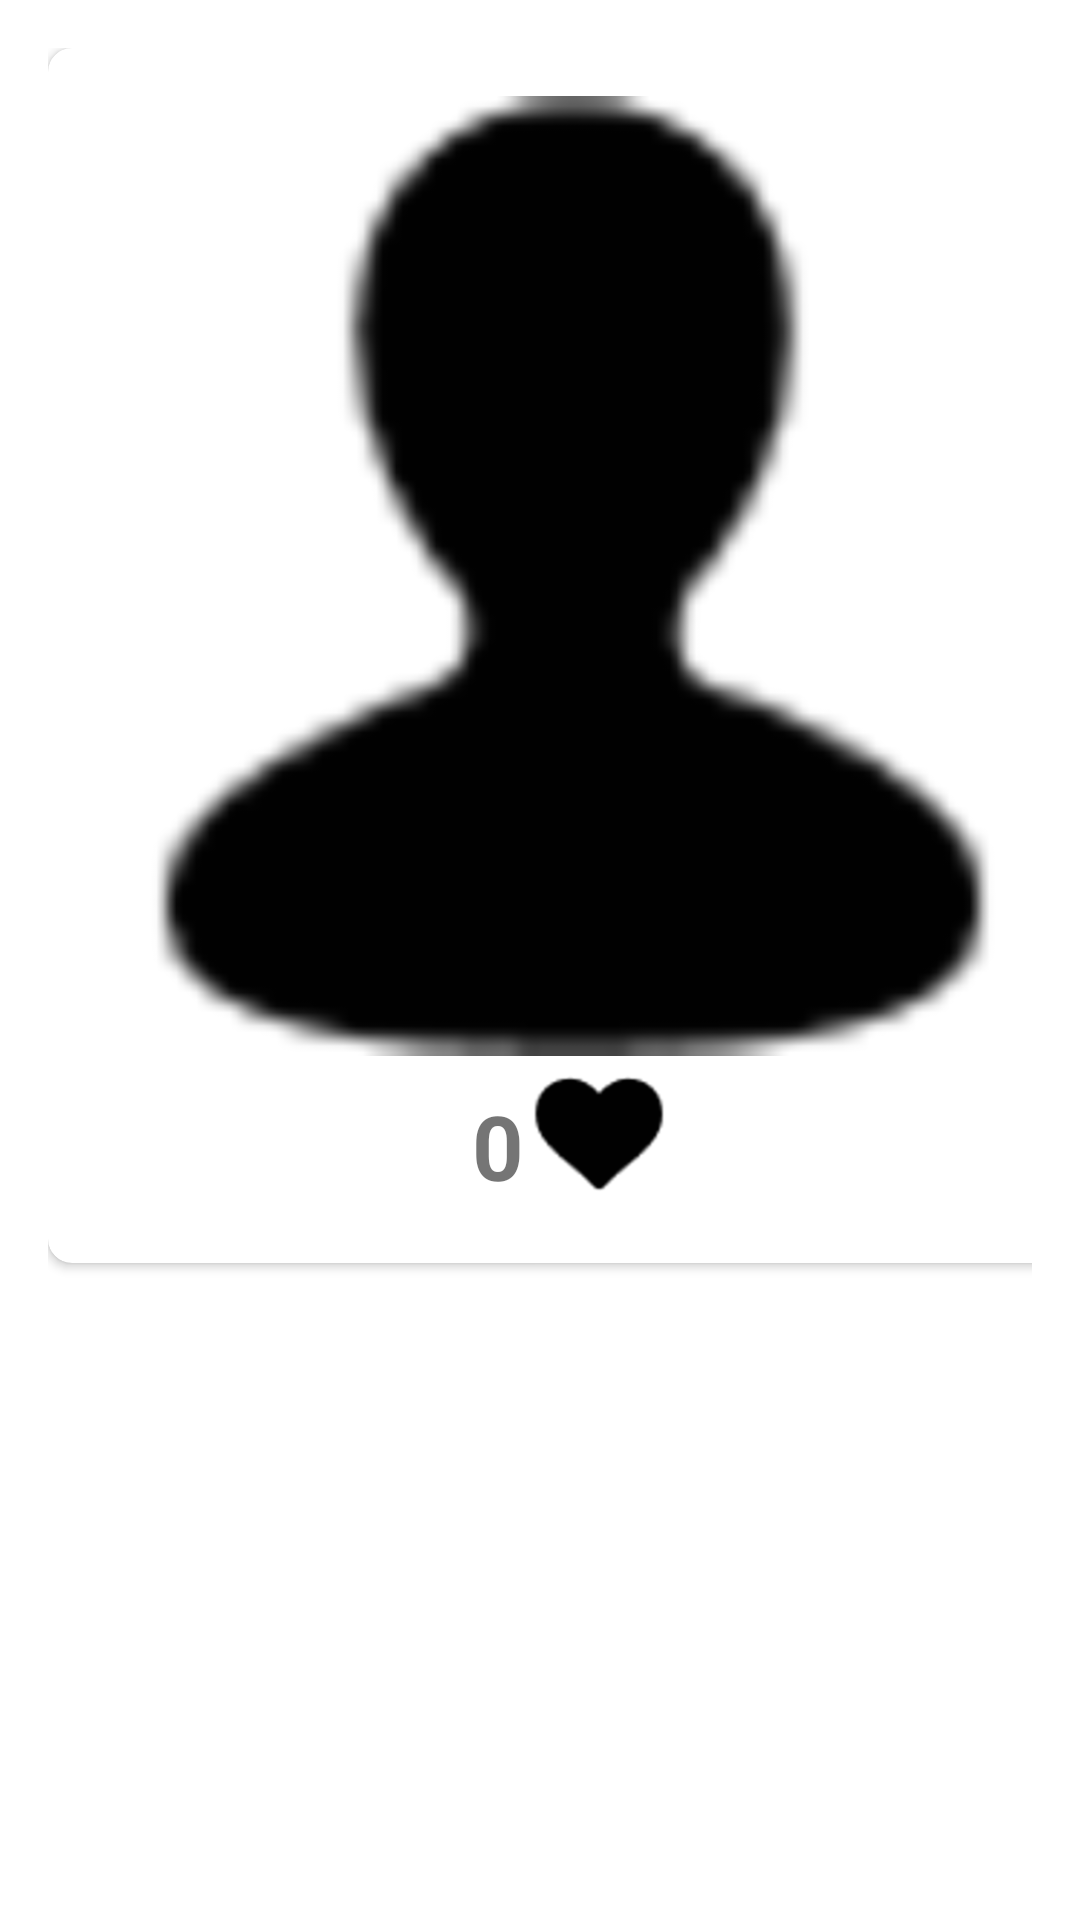

Screen size 1080px×1920px. Icon name, then its box in pixels as (x1, y1, x2, y2):
hearts: (534, 1077, 664, 1190)
